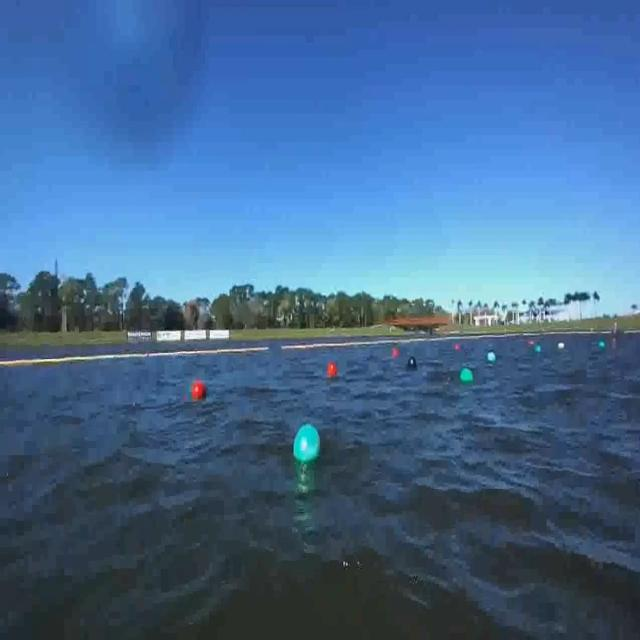black-buoy: (408, 356, 418, 369)
green-buoy: (292, 426, 320, 465), (459, 370, 472, 384), (488, 352, 497, 363)
red-buoy: (194, 378, 208, 398), (327, 362, 337, 378), (392, 348, 399, 358)
